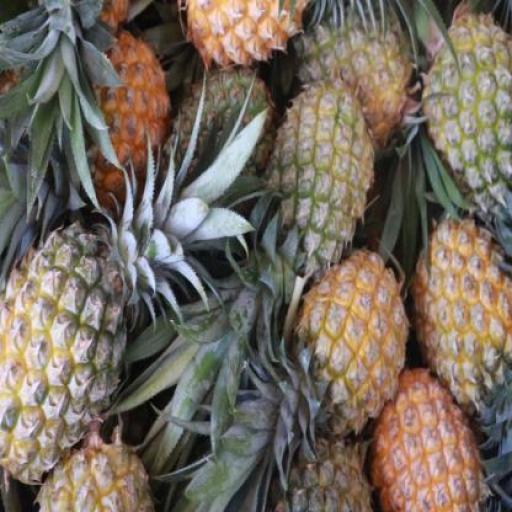------------------------------: (0, 228, 139, 478), (266, 85, 372, 281), (427, 14, 511, 232), (306, 0, 424, 144)
Pineapple - v8 v1: (300, 258, 408, 442), (413, 221, 508, 409), (376, 365, 488, 511)
